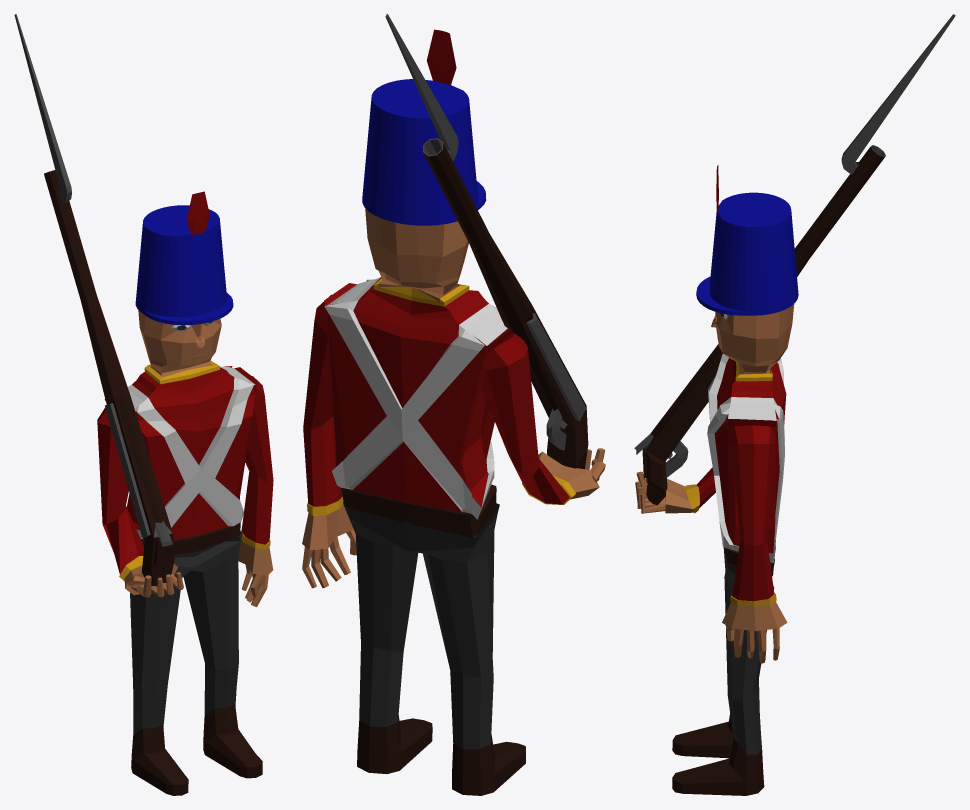
File: Infantry.obj
3 renders of one model, left to right at view 1: azimuth 30°, elevation 25°; view 2: azimuth 150°, elevation 25°; view 3: azimuth 270°, elevation 25°, orthographic. The views are drawn at different scales.
Parts seen in each view (by area): view 1: {Man}_Circle, {Mesket}_Cube.001; view 2: {Man}_Circle, {Mesket}_Cube.001; view 3: {Man}_Circle, {Mesket}_Cube.001.
Part boxes in pixels (left/top/right/bottom): {Man}_Circle: left=97, top=191, right=273, bottom=795; {Mesket}_Cube.001: left=14, top=14, right=174, bottom=586; {Man}_Circle: left=302, top=29, right=605, bottom=795; {Mesket}_Cube.001: left=385, top=14, right=588, bottom=469; {Man}_Circle: left=635, top=165, right=798, bottom=795; {Mesket}_Cube.001: left=634, top=14, right=955, bottom=505.
Bounding box in the file's own units: 5.63 × 19.62 × 7.93.
